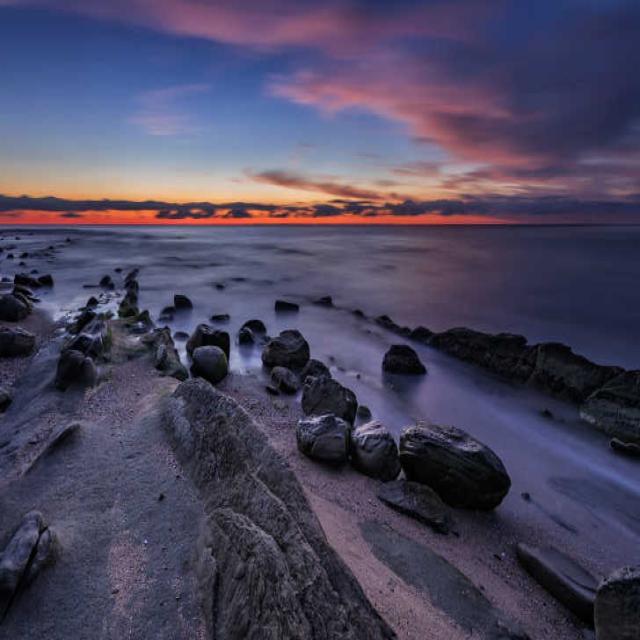reef: (285, 380, 530, 466), (410, 309, 619, 389), (170, 282, 315, 372), (7, 249, 158, 332)
